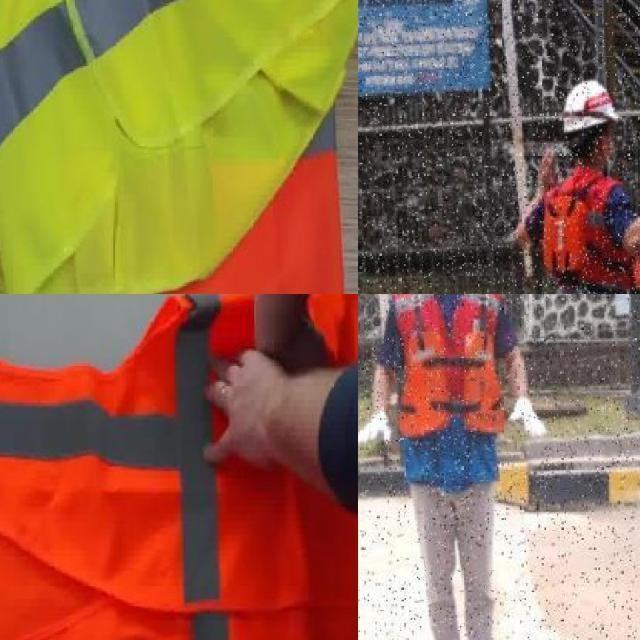apron: (508, 396, 548, 444), (358, 407, 393, 455)
